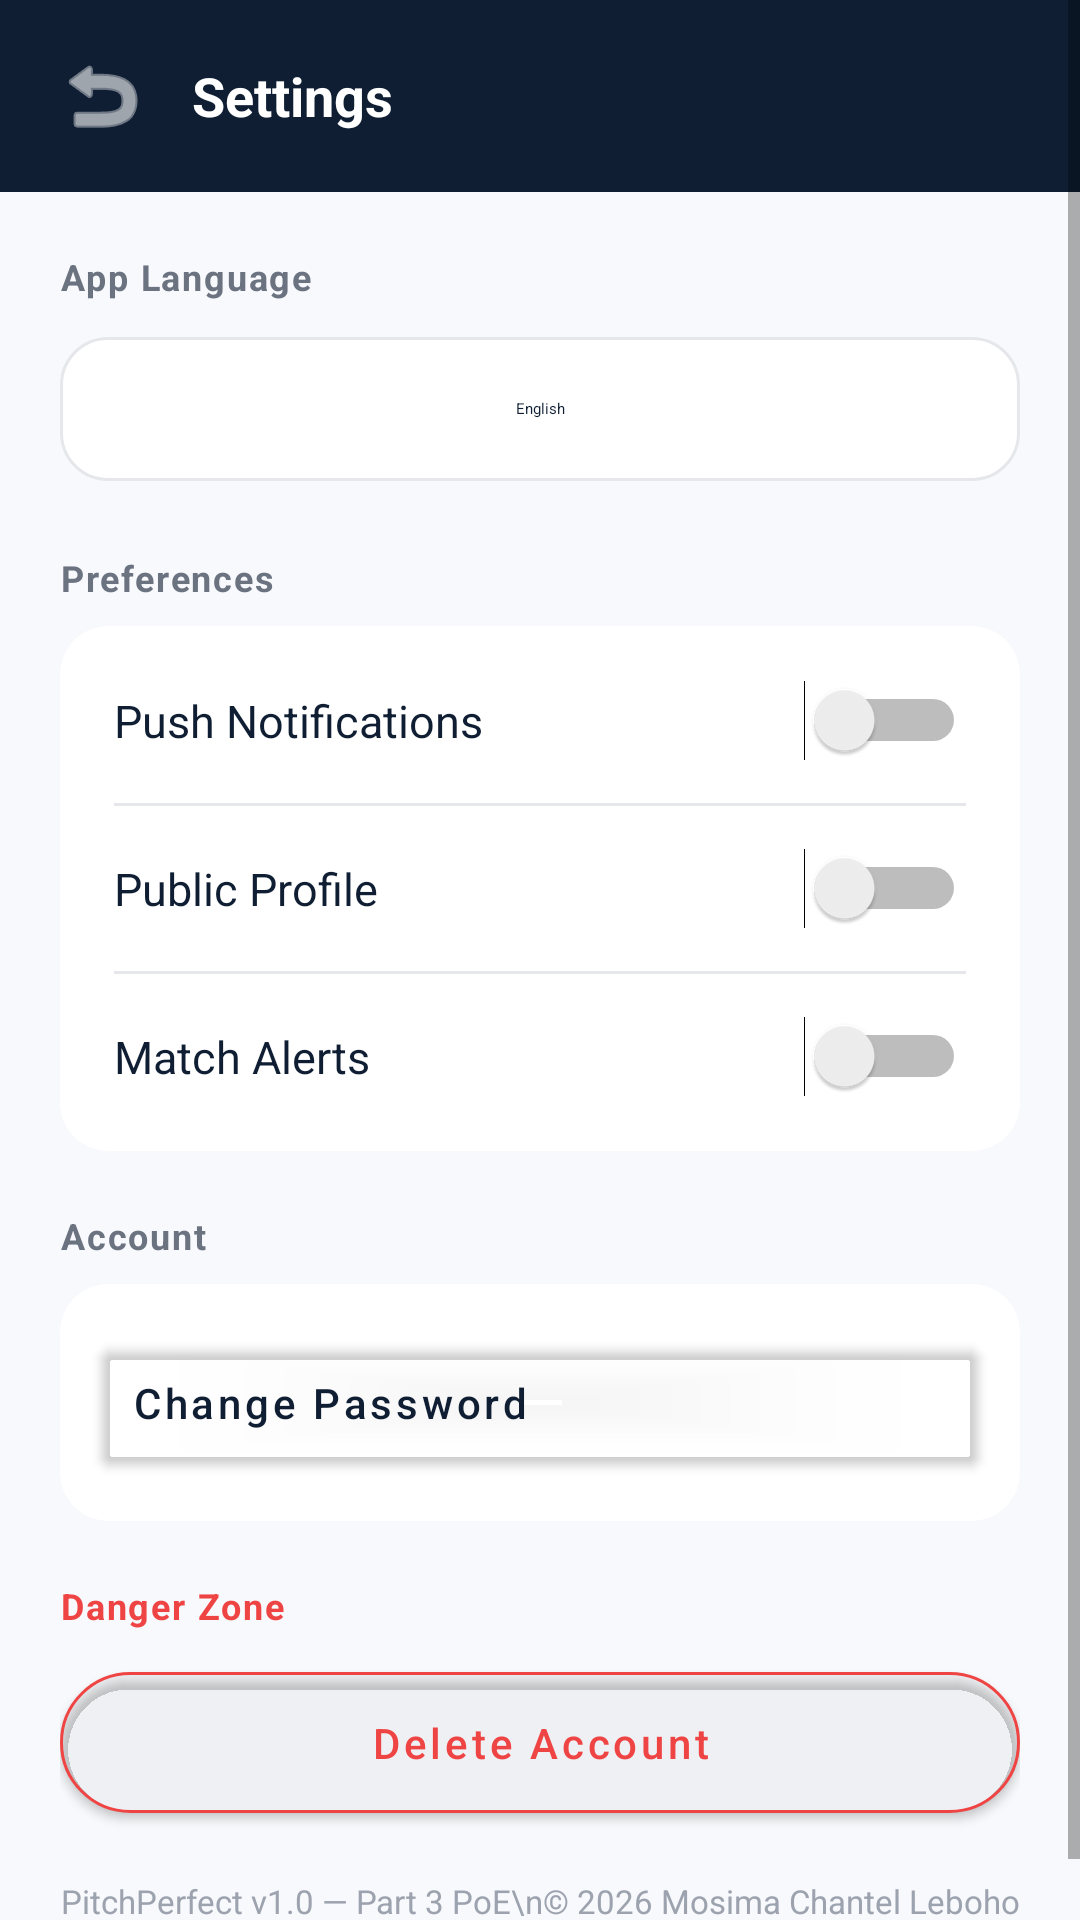

Point at icon controls on the screen. Image size 1080px x 1920px, points as [x,y].
revert: [103,96]
